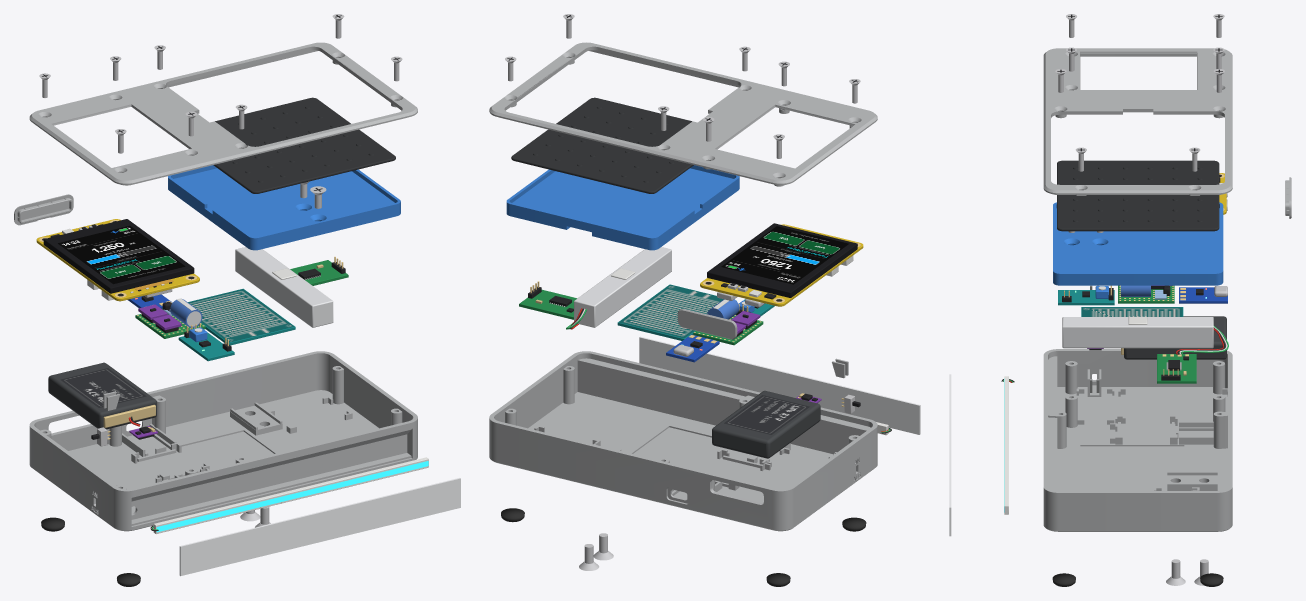
Rendered from hydrodesk_explosion.glb.
3 renders of one model, left to right at view 1: azimuth 30°, elevation 25°; view 2: azimuth 150°, elevation 25°; view 3: azimuth 270°, elevation 25°, orthographic. The views are drawn at different scales.
Visible parts, largest first — view 1: Unterschale, Deckel, Flaschenplatte, Silikonmatte, Diffusor, Display-Board, Akku, Waegezelle, Regensensor, COB-LED-Streifen, FET-Platine, Schrauben_M3 (+4 smaller); view 2: Unterschale, Deckel, Flaschenplatte, Silikonmatte, Display-Board, Diffusor, Akku, Waegezelle, Regensensor, Schrauben_M3, FET-Platine, HX711 (+4 smaller); view 3: Unterschale, Deckel, Silikonmatte, Flaschenplatte, Waegezelle, Schrauben_M3, Akku, HX711, FET-Platine, Regensensor, LM393, TC4056 (+4 smaller).
Boxes of the visible parts, x1,y1,x2,y2 form: Unterschale: (29, 351, 417, 531); Deckel: (29, 42, 417, 185); Flaschenplatte: (168, 165, 400, 250); Silikonmatte: (213, 97, 395, 193); Diffusor: (179, 478, 460, 576); Display-Board: (36, 219, 199, 301); Akku: (48, 362, 156, 429); Waegezelle: (235, 247, 333, 327); Regensensor: (188, 288, 295, 345); COB-LED-Streifen: (150, 457, 428, 533); FET-Platine: (135, 298, 205, 338); Schrauben_M3: (39, 14, 402, 153); Unterschale: (489, 351, 877, 531); Deckel: (489, 42, 877, 186); Flaschenplatte: (506, 165, 739, 250); Silikonmatte: (511, 97, 693, 193); Display-Board: (700, 223, 863, 307); Diffusor: (639, 336, 920, 434); Akku: (712, 390, 820, 458); Waegezelle: (566, 247, 671, 329); Regensensor: (617, 284, 736, 340); Schrauben_M3: (505, 14, 860, 158); FET-Platine: (693, 299, 763, 345); HX711: (519, 281, 576, 319); Unterschale: (1043, 349, 1232, 531); Deckel: (1043, 48, 1232, 195); Silikonmatte: (1057, 160, 1219, 231); Flaschenplatte: (1053, 202, 1223, 285); Waegezelle: (1062, 316, 1228, 354); Schrauben_M3: (1055, 14, 1224, 171); Akku: (1121, 316, 1226, 359); HX711: (1157, 354, 1196, 383); FET-Platine: (1118, 285, 1174, 303); Regensensor: (1081, 307, 1183, 316); LM393: (1058, 285, 1114, 305); TC4056: (1179, 286, 1227, 303).
Bounding box in the file's own units: 0.1816 × 0.275 × 0.181.
Materials: 34 (3 with a texture image).
